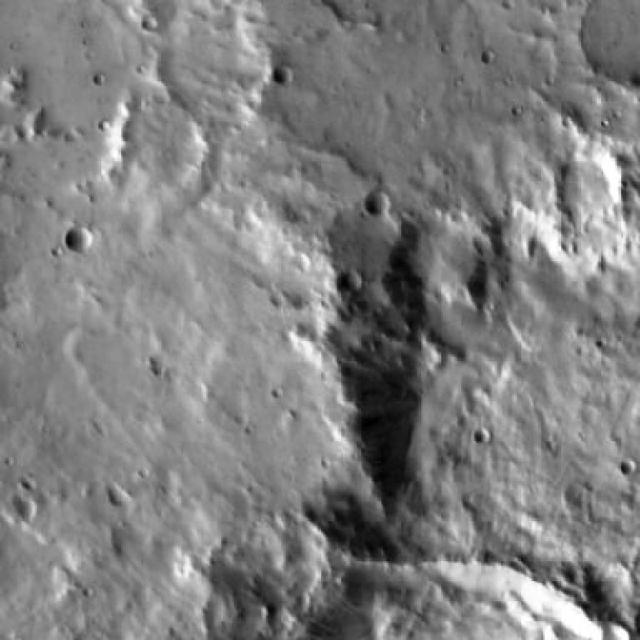crater: (0, 0, 162, 200), (227, 511, 342, 623), (550, 150, 622, 218), (362, 190, 390, 216), (66, 226, 92, 252), (12, 498, 34, 520), (337, 270, 358, 290), (618, 624, 639, 640), (276, 69, 292, 85)
